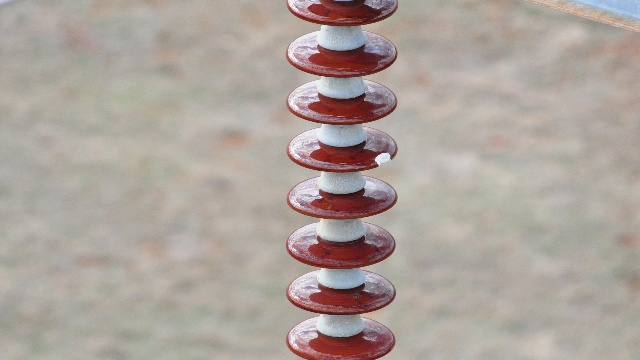broken_local: (373, 150, 393, 167)
insulator_unspecified: (286, 3, 399, 359)
